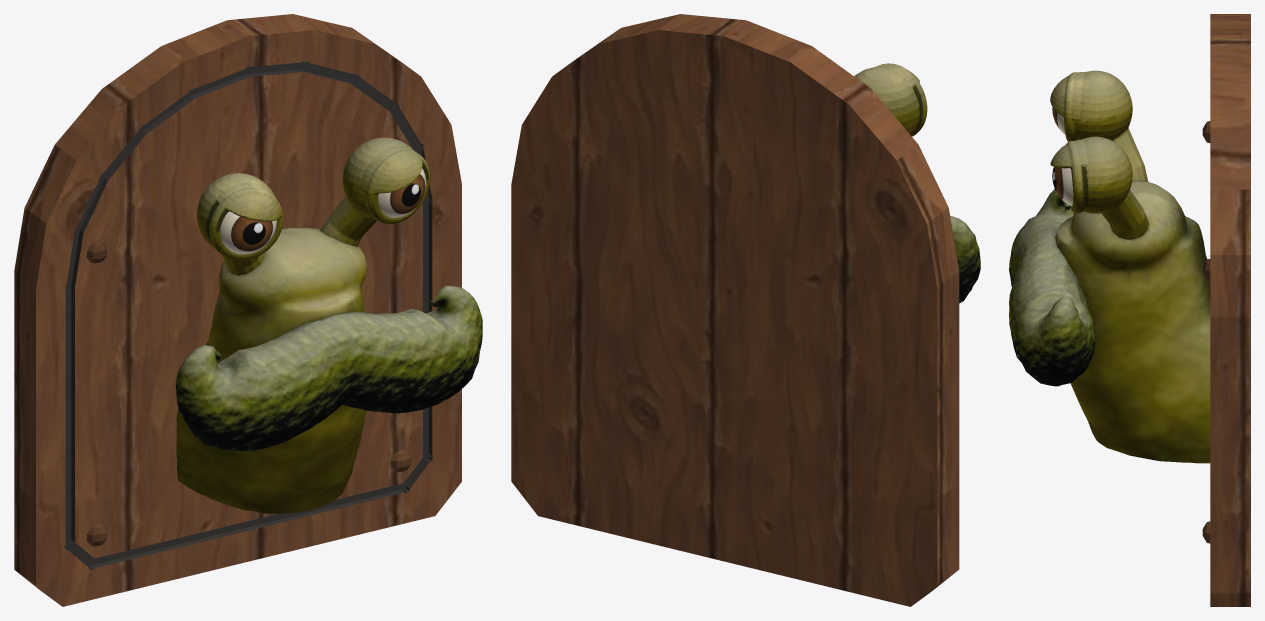
Rendered from hm_snail_shell_trophy.glb.
3 views of the same model, side by side, from view 1: azimuth 30°, elevation 25°; view 2: azimuth 150°, elevation 25°; view 3: azimuth 270°, elevation 25° (orthographic). The views are drawn at different scales.
Visible parts, largest first — view 1: model; view 2: model; view 3: model.
Boxes of the visible parts, x1,y1,x2,y2 form: model: (14,14,482,606); model: (511,14,980,606); model: (1009,14,1250,606).
Bounding box in the file's own units: 0.56 × 0.66 × 0.297.
9 materials, 8 textured.
